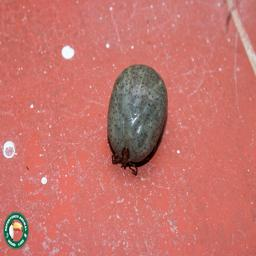Rhipicephalus sanguineus: (106, 63, 168, 176)
